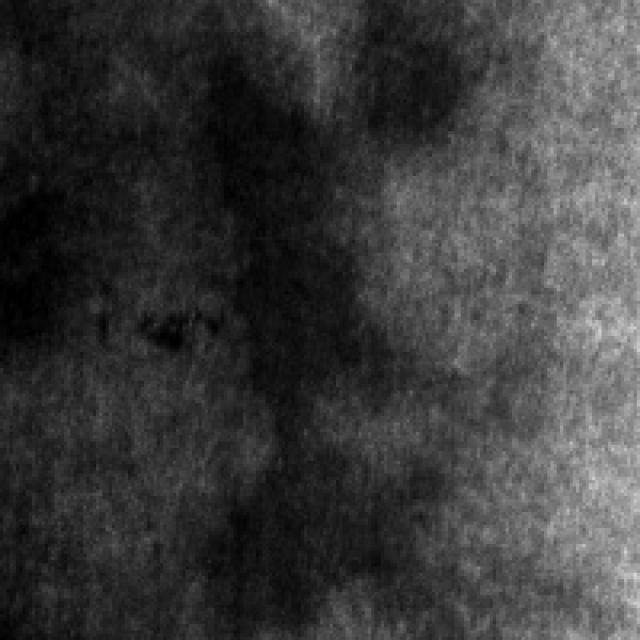patches: (195, 38, 346, 416), (0, 163, 106, 374), (355, 0, 489, 150)
